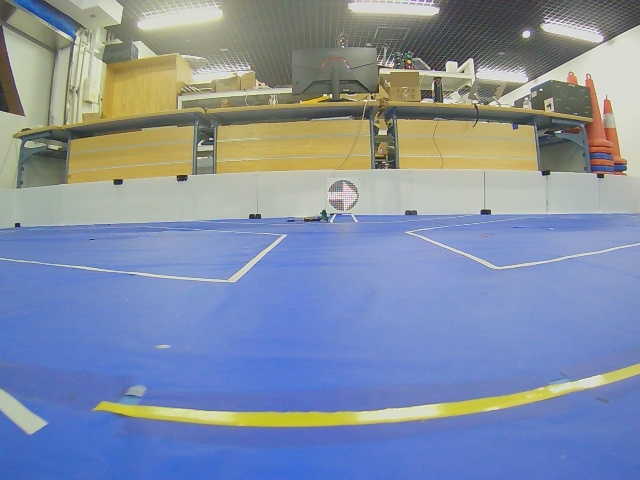right_yellow: (327, 180, 360, 212)
